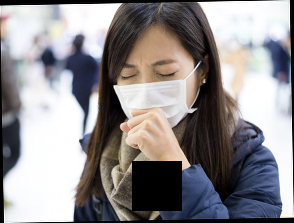with_mask: (113, 56, 196, 131)
